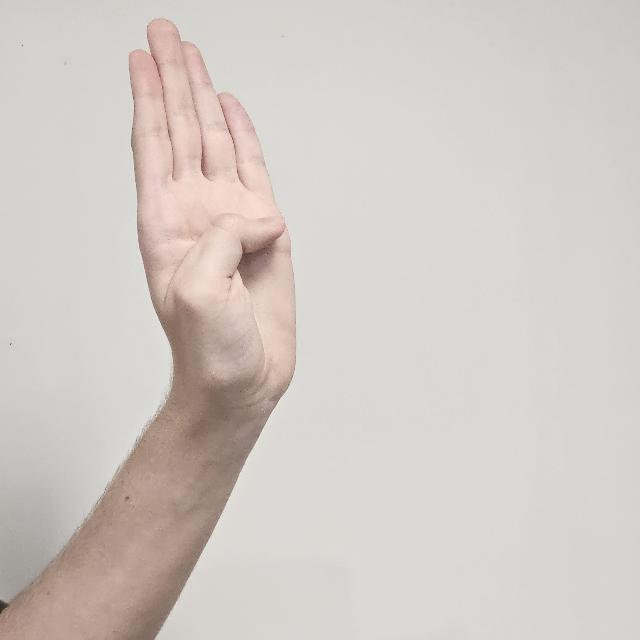Baixo: (111, 15, 311, 452)
